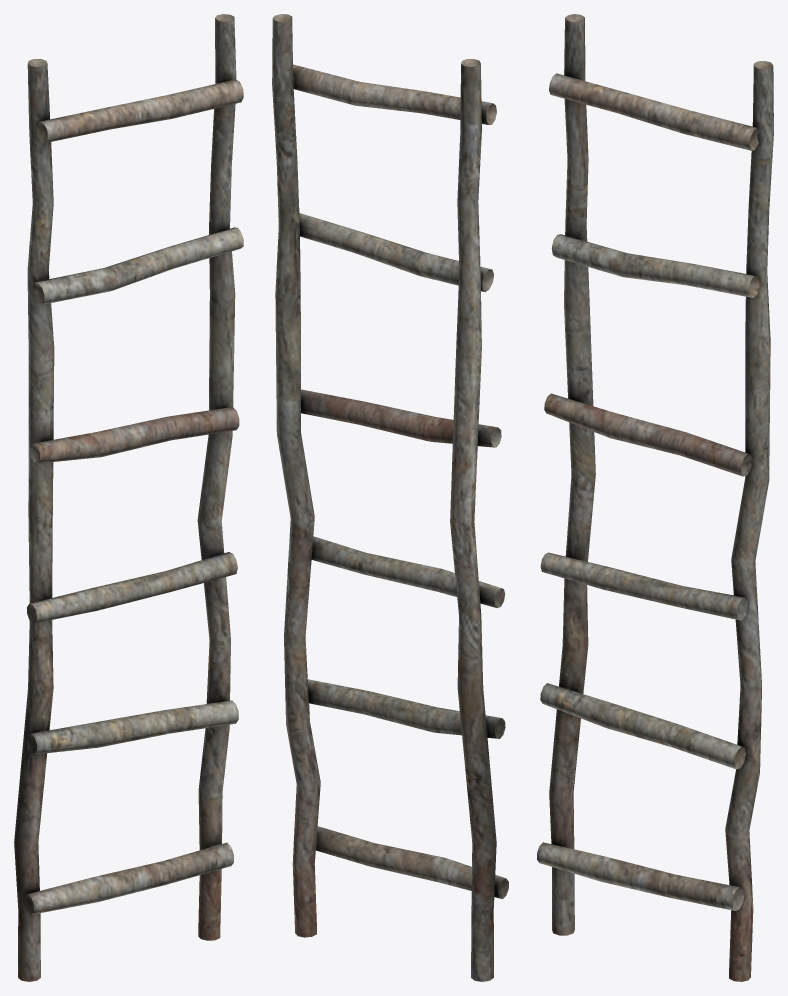
Rendered from Ladder.FBX.
3 views of the same model, side by side, from view 1: azimuth 30°, elevation 25°; view 2: azimuth 150°, elevation 25°; view 3: azimuth 330°, elevation 25° (orthographic).
Parts seen in each view (by area): view 1: Ladder; view 2: Ladder; view 3: Ladder.
Boxes of the visible parts, x1=… form: Ladder: x1=14, y1=14, x2=243, y2=981; Ladder: x1=272, y1=14, x2=508, y2=981; Ladder: x1=537, y1=14, x2=773, y2=981.
Bounding box in the file's own units: 78.67 × 312 × 18.69.
